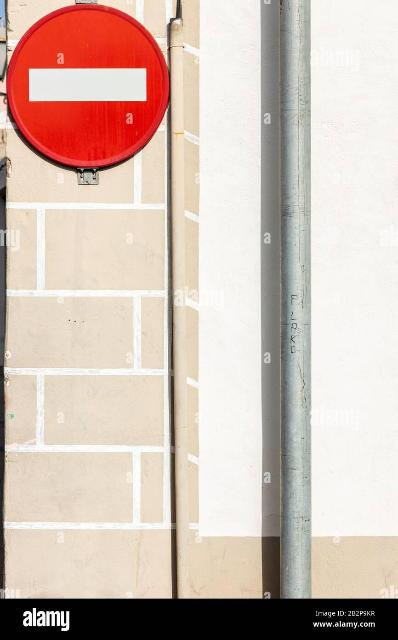B2: (5, 3, 171, 171)
